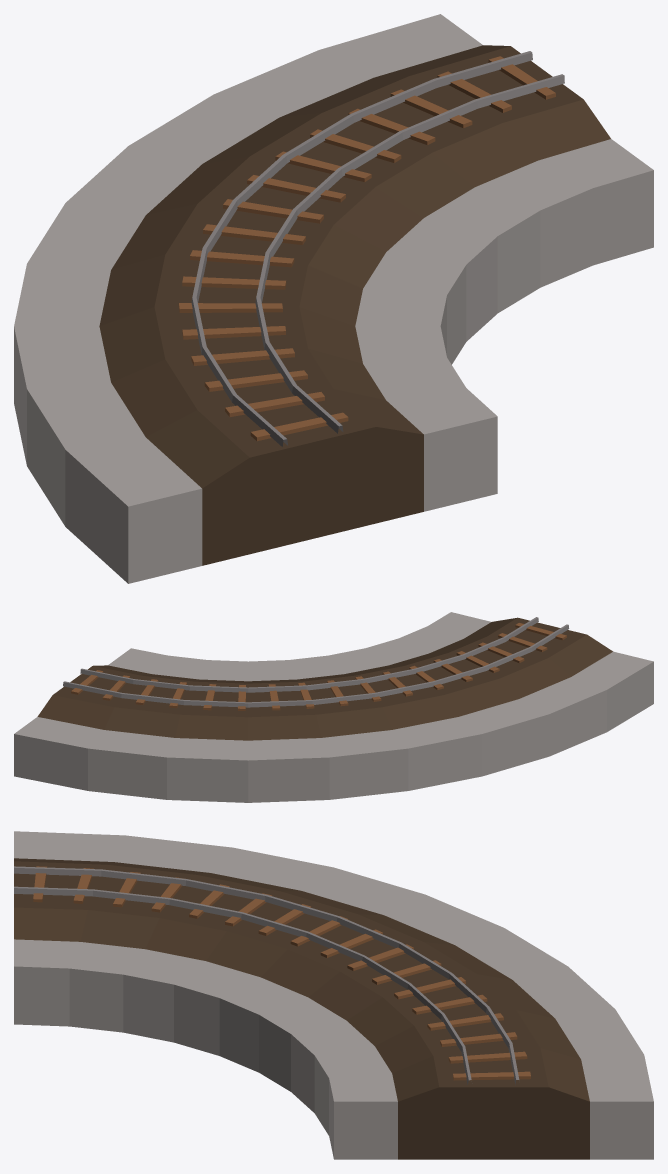
File: solo-rail-curve.fbx
3 views of the same model, one above another, from view 1: azimuth 30°, elevation 25°; view 2: azimuth 150°, elevation 25°; view 3: azimuth 270°, elevation 25° (orthographic). The views are drawn at different scales.
Parts seen in each view (by area): view 1: solo-rail-curve; view 2: solo-rail-curve; view 3: solo-rail-curve.
Part boxes in pixels (x1,y1,x2,y2): solo-rail-curve: (14, 14, 653, 583); solo-rail-curve: (14, 612, 653, 802); solo-rail-curve: (14, 831, 653, 1159).
Bounding box in the file's own units: 2001 × 275 × 2000.
